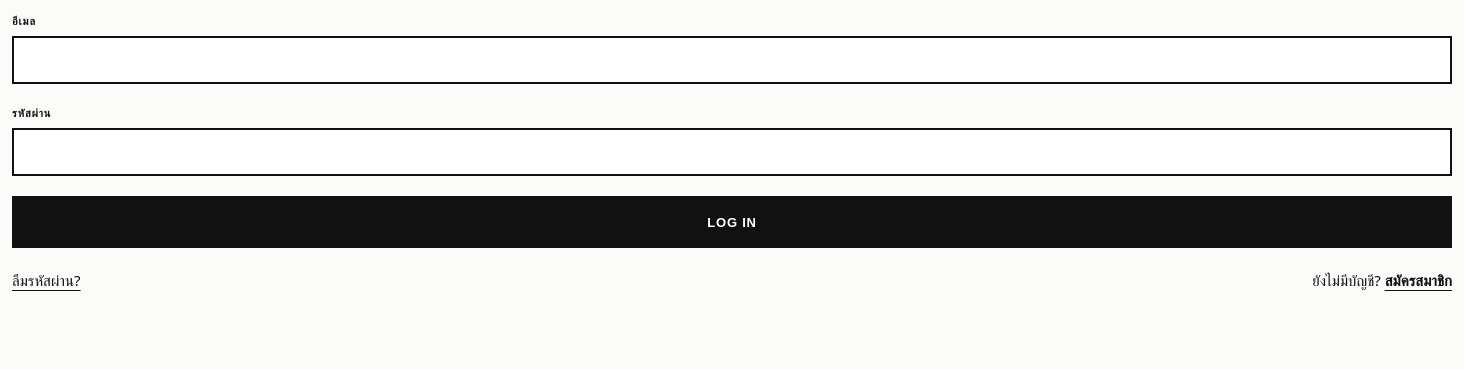
Scenario: LoginForm › shows the error the action returns
The image size is (1464, 369).
Type "a@b.co" into the field labelled "อีเมล" at (732, 60), box [12,36,1452,84]
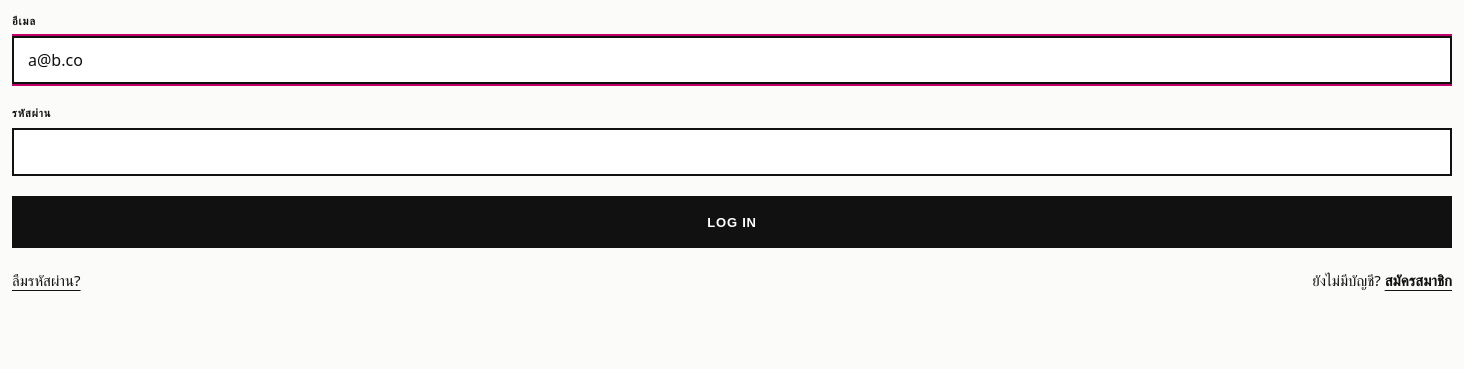
Type "abcdefgh" into the password field labelled "รหัสผ่าน" at (732, 152), box [12,128,1452,176]
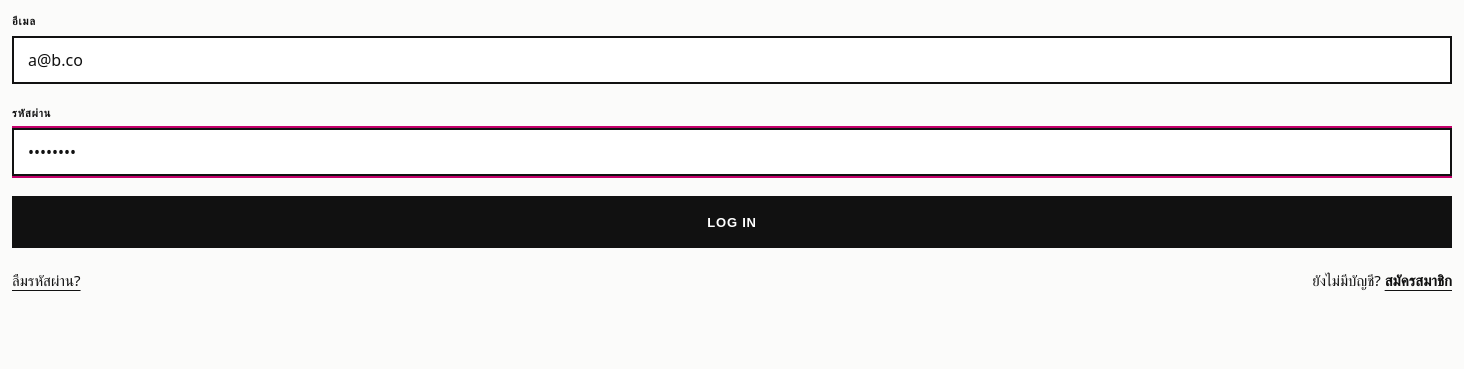
Click the button "LOG IN" at (732, 222), box [12,196,1452,248]
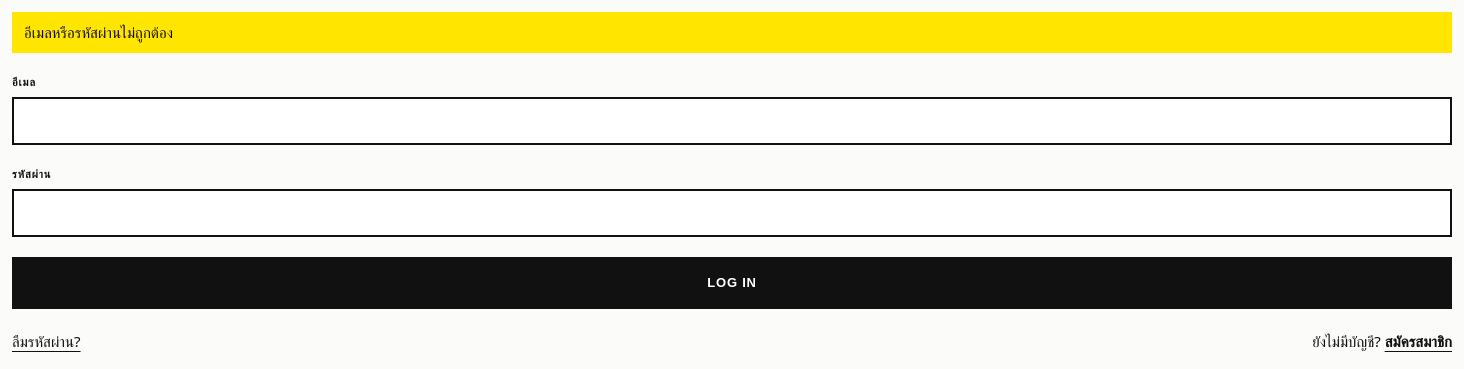
Expected: the message reads "อีเมลหรือรหัสผ่านไม่ถูกต้อง", [24,22,173,42]
